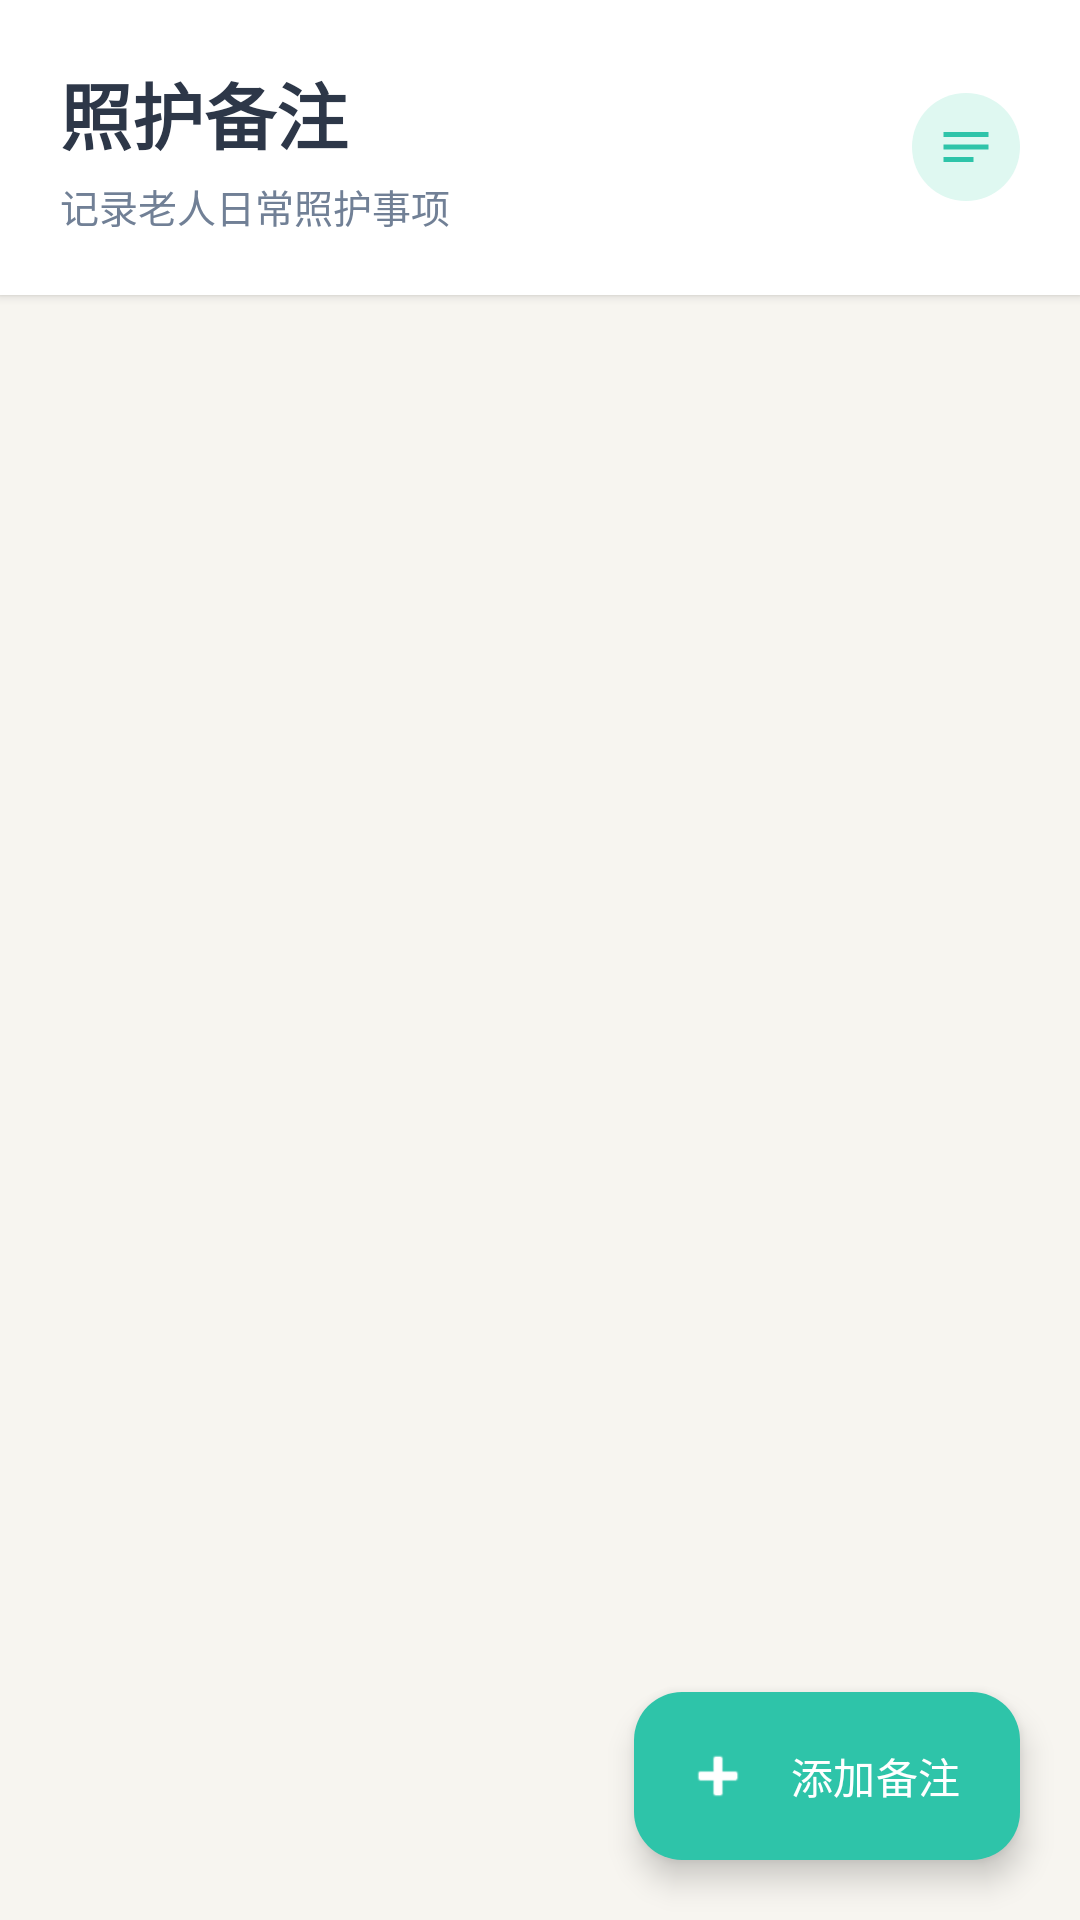

Icon bounding boxes for this 1080x1920 phone screenshot, format (x1, y1, x2, y2):
notes: (912, 93, 1020, 201)
